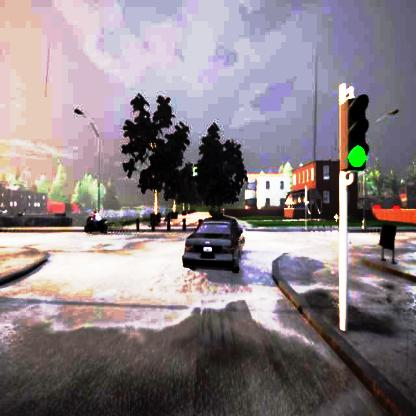motobike: (84, 215, 106, 233)
vehicle: (182, 218, 244, 274)
